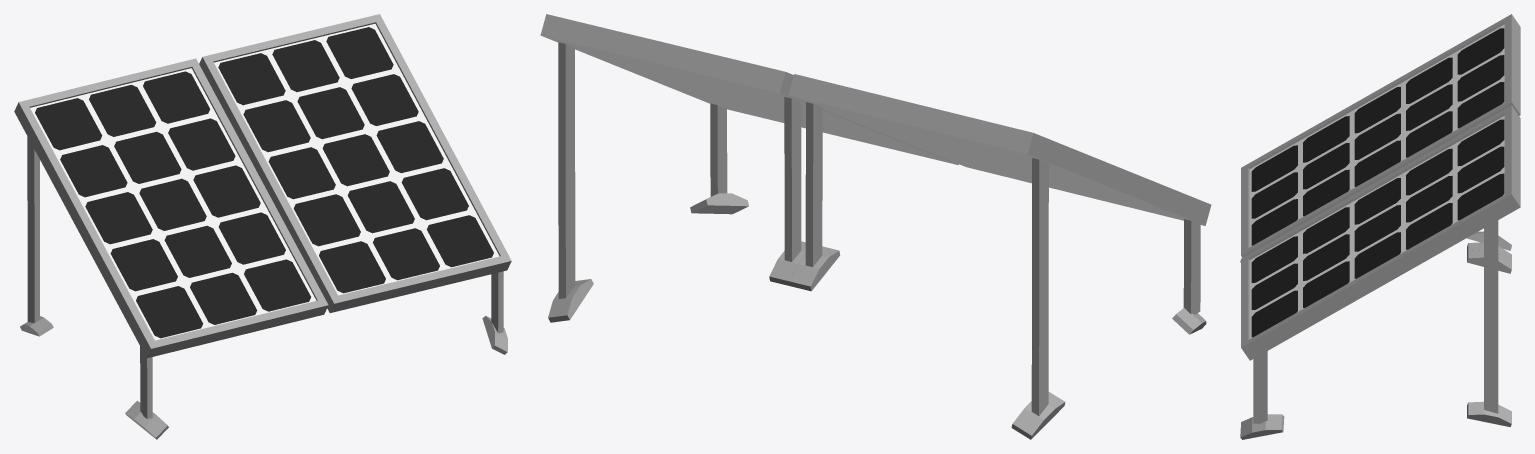
Rendered from solarpanel_roof.glb.
3 views of the same model, side by side, from view 1: azimuth 30°, elevation 25°; view 2: azimuth 150°, elevation 25°; view 3: azimuth 270°, elevation 25° (orthographic). The views are drawn at different scales.
Parts seen in each view (by area): view 1: SolarPanel_Roof; view 2: SolarPanel_Roof; view 3: SolarPanel_Roof.
Boxes of the visible parts, x1,y1,x2,y2 form: SolarPanel_Roof: (14,14,511,439); SolarPanel_Roof: (540,14,1211,439); SolarPanel_Roof: (1240,14,1520,439).
Size of the model in its own units: 2.73 by 1.7 by 1.73.
Materials: 1 (1 with a texture image).
